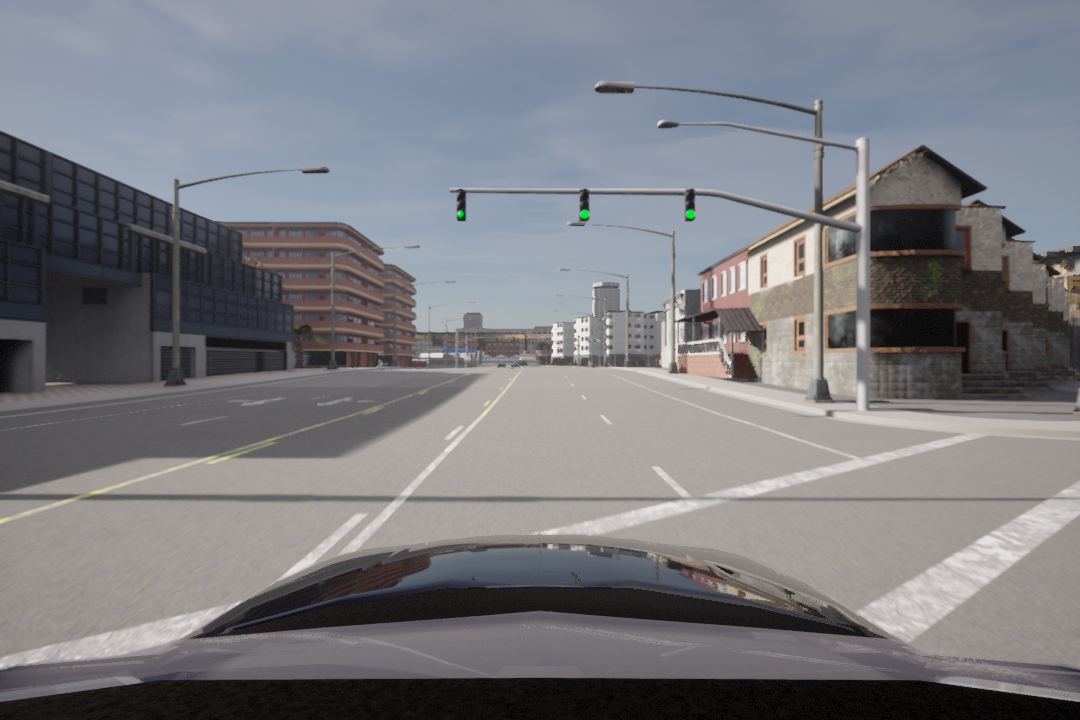TrafficLight: (684, 188, 701, 226), (577, 186, 593, 224), (454, 187, 468, 220)
